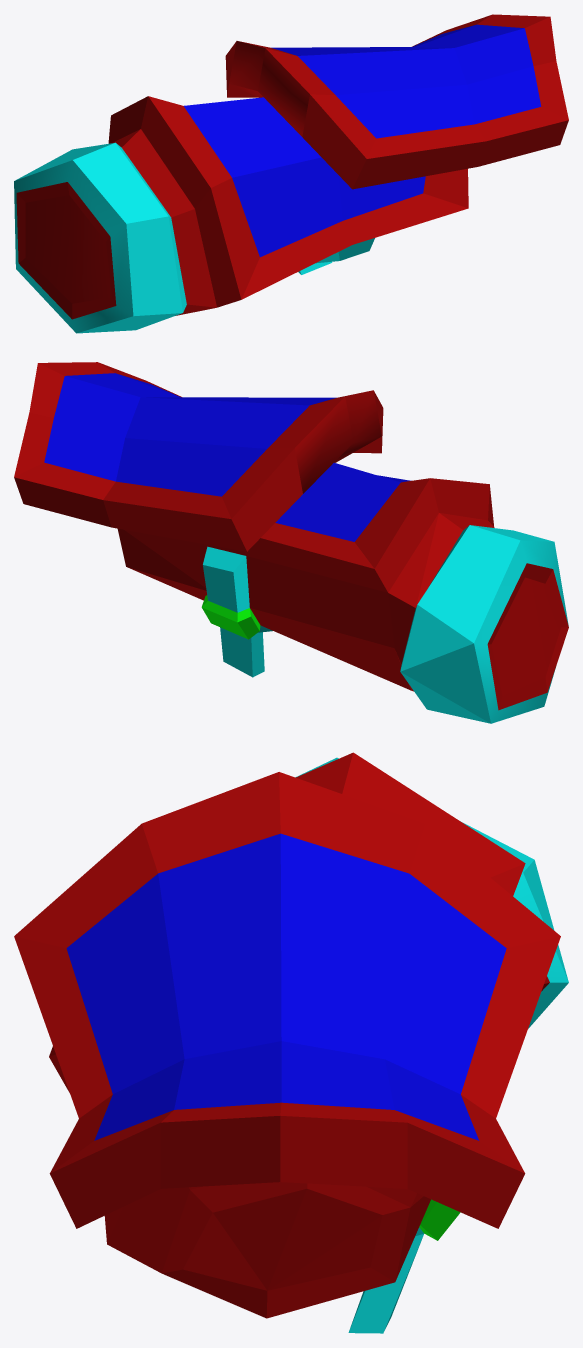
Rendered from Chr_ArmLowerLeft_Male_Static_11.fbx.
3 views of the same model, one above another, from view 1: azimuth 30°, elevation 25°; view 2: azimuth 150°, elevation 25°; view 3: azimuth 270°, elevation 25° (orthographic). The views are drawn at different scales.
Parts seen in each view (by area): view 1: Chr_ArmLowerLeft_Male_11; view 2: Chr_ArmLowerLeft_Male_11; view 3: Chr_ArmLowerLeft_Male_11.
Boxes of the visible parts, bbox=[...] form: Chr_ArmLowerLeft_Male_11: bbox=[14, 14, 568, 333]; Chr_ArmLowerLeft_Male_11: bbox=[14, 362, 568, 723]; Chr_ArmLowerLeft_Male_11: bbox=[14, 752, 568, 1333].
Bounding box in the file's own units: 36.74 × 18.63 × 18.99.
